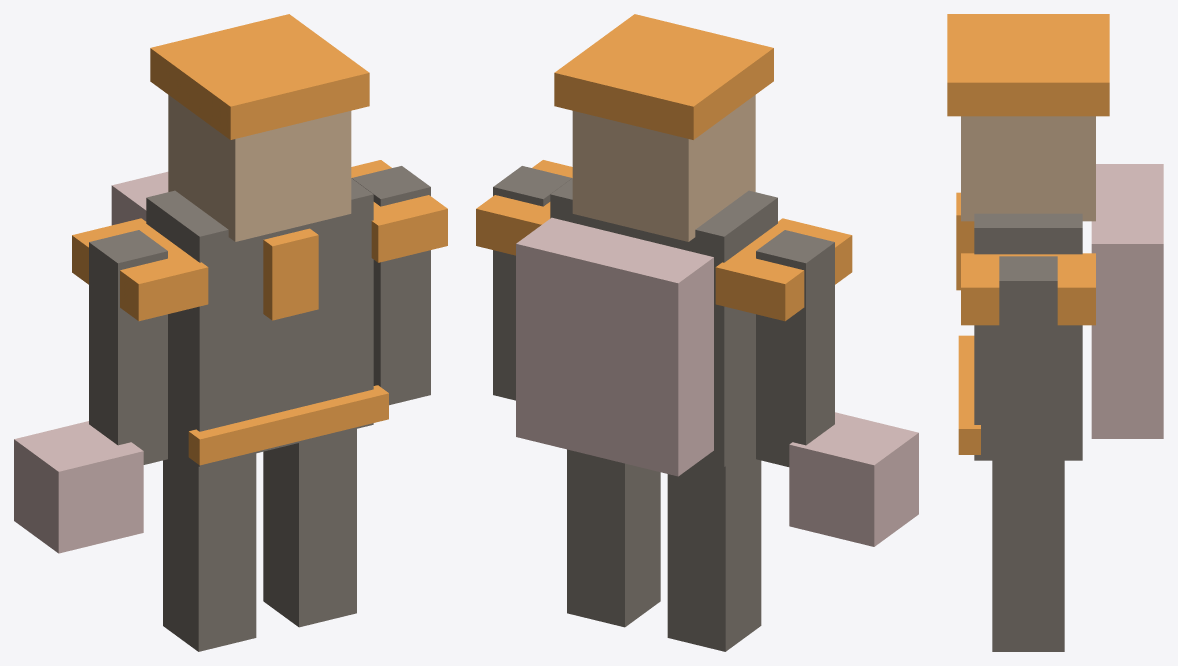
The model's file is 04_lio_ashvein_ranger_of_watcher.glb.
3 views of the same model, side by side, from view 1: azimuth 30°, elevation 25°; view 2: azimuth 150°, elevation 25°; view 3: azimuth 270°, elevation 25° (orthographic).
Parts seen in each view (by area): view 1: Lio Ashvein, Ranger of Watcher; view 2: Lio Ashvein, Ranger of Watcher; view 3: Lio Ashvein, Ranger of Watcher.
Part boxes in pixels (x1,y1,x2,y2): Lio Ashvein, Ranger of Watcher: (14,14,447,651); Lio Ashvein, Ranger of Watcher: (476,14,918,651); Lio Ashvein, Ranger of Watcher: (947,14,1163,651).
Bounding box in the file's own units: 1.02 × 1.41 × 0.4899.
